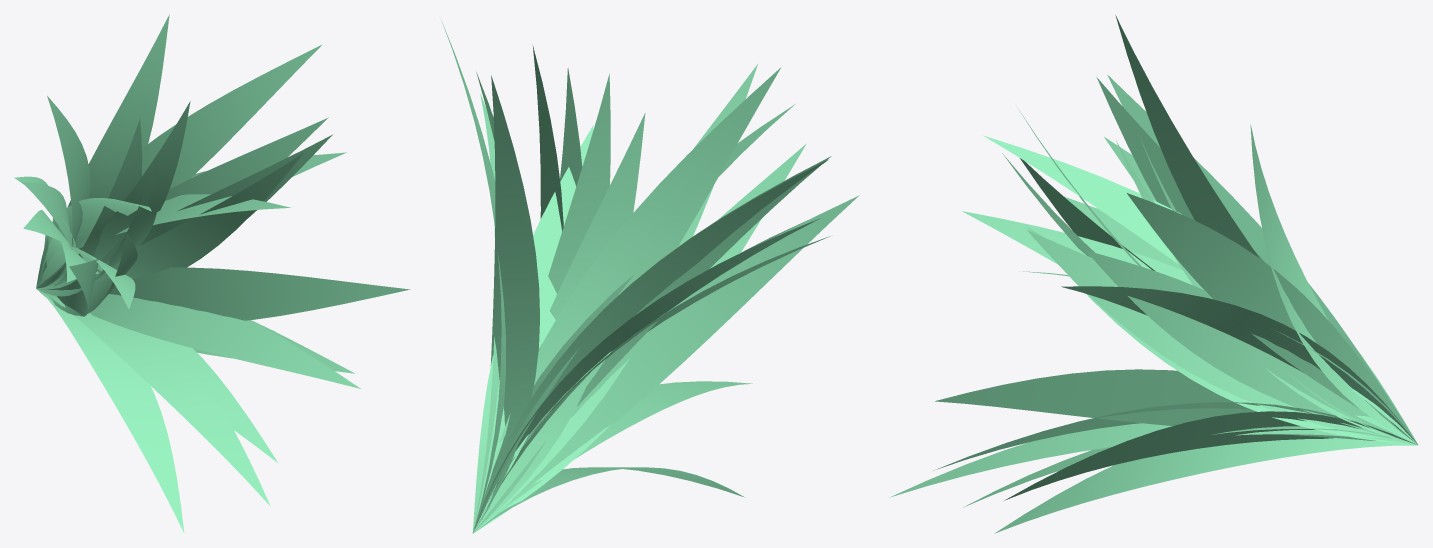
Rendered from fern_2026-04-26T09-29-05-425Z.glb.
3 views of the same model, side by side, from view 1: azimuth 30°, elevation 25°; view 2: azimuth 150°, elevation 25°; view 3: azimuth 270°, elevation 25° (orthographic). The views are drawn at different scales.
Visible parts, largest first — view 1: giant_jungle_fern; view 2: giant_jungle_fern; view 3: giant_jungle_fern.
Boxes of the visible parts, box(x1,y1,x2,y2) form: giant_jungle_fern: box(14, 14, 410, 532); giant_jungle_fern: box(441, 21, 859, 533); giant_jungle_fern: box(889, 15, 1417, 533).
Size of the model in its own units: 8.98 by 11.25 by 11.41.
